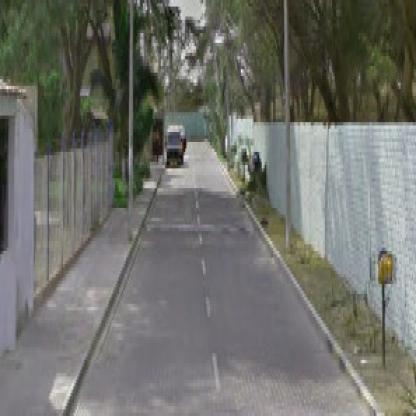Pista: (70, 136, 374, 416)
Vehiculo: (166, 126, 184, 166)
